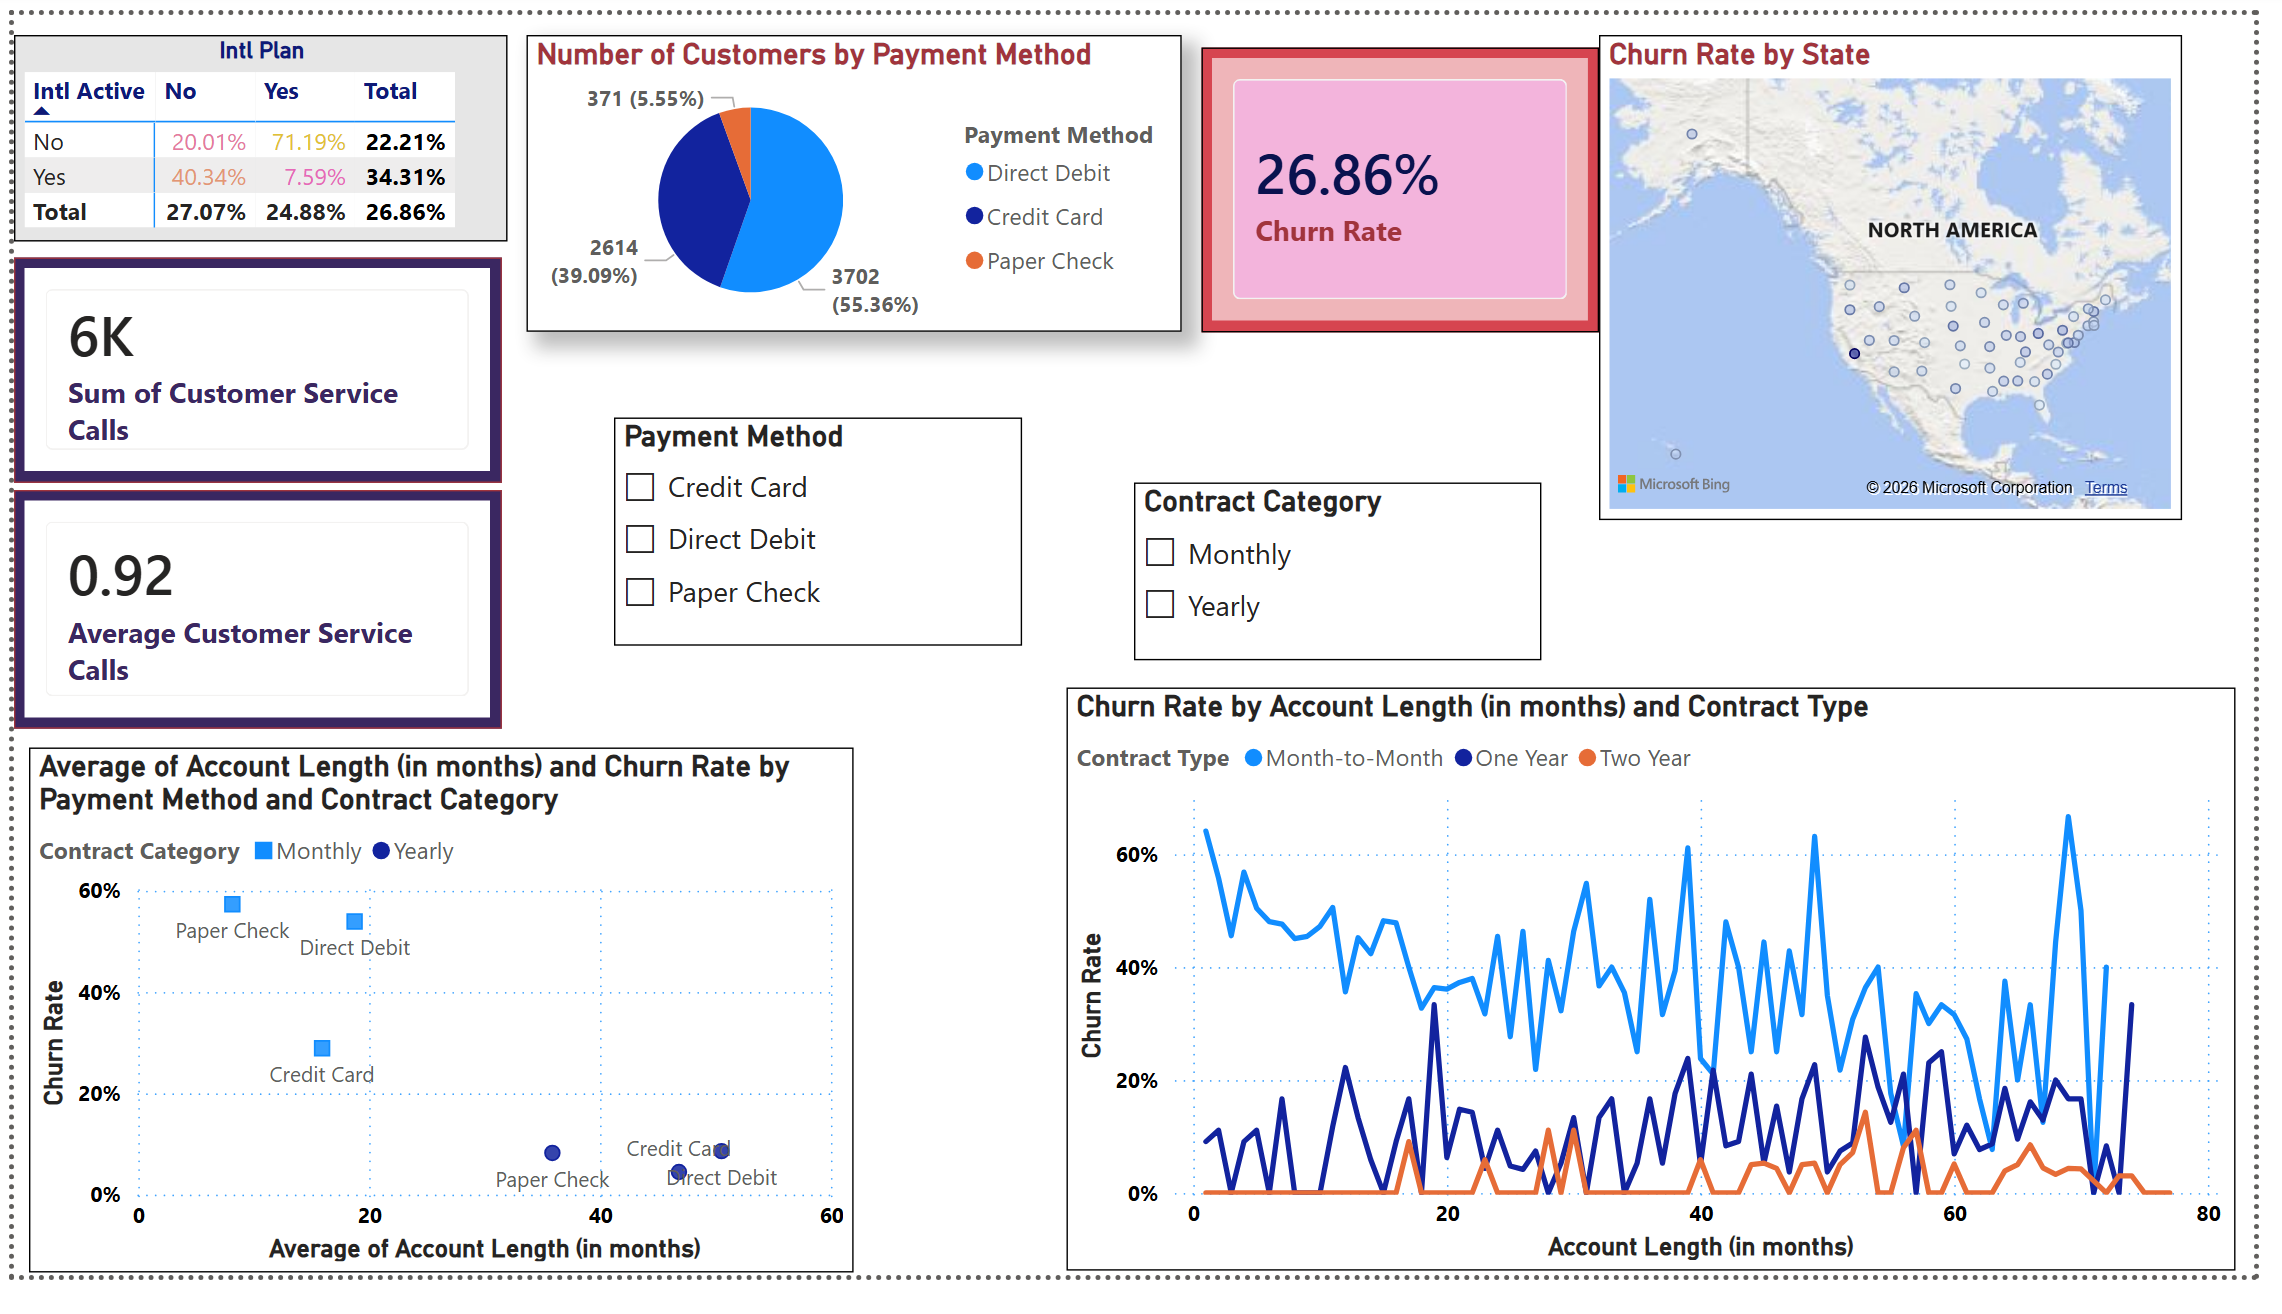

The page's visual inventory and layout, read from the dashboard file:
{"tool":"powerbi","page":{"name":"International Calls","canvas":[1280,720],"ordinal":3},"visuals":[{"type":"pivotTable","title":"Intl Plan","fields":{"Rows":["Churn_fact.Intl Active"],"Columns":["Churn_fact.Intl Plan"],"Values":["_Measure.Churn Rate"]},"box":[0,12.1,281.8,118.2],"z":0},{"type":"map","fields":{"Category":["Churn_fact.State"]},"box":[906.1,12.1,333.3,277.3],"z":1000},{"type":"lineChart","fields":{"Y":["_Measure.Churn Rate"],"Category":["Churn_fact.Account Length (in months)"],"Series":["Churn_fact.Contract Type"]},"box":[592.7,360.8,668.1,340.2],"z":2000},{"type":"pieChart","fields":{"Y":["_Measure.Number of Customers"],"Category":["Churn_fact.Payment Method"]},"box":[292.4,12.1,374.2,169.7],"z":3000},{"type":"cardVisual","fields":{"Data":["Sum(Churn_fact.Customer Service Calls)"]},"box":[0,137.9,278.8,128.8],"z":3001},{"type":"cardVisual","fields":{"Data":["_Measure.Average Customer Service Calls"]},"box":[0,271.2,278.8,136.4],"z":3002},{"type":"listSlicer","fields":{"Values":["Churn_fact.Contract Category"]},"box":[640,238,232,102],"z":3003},{"type":"listSlicer","fields":{"Values":["Churn_fact.Payment Method"]},"box":[342.4,230.3,233.3,130.3],"z":3004},{"type":"scatterChart","fields":{"X":["Churn_fact.Account Length (in months)"],"Y":["_Measure.Churn Rate"],"Series":["Churn_fact.Contract Category"],"Category":["Churn_fact.Payment Method"]},"box":[0,407.5,470.6,312.8],"z":3005},{"type":"cardVisual","fields":{"Data":["_Measure.Churn Rate"]},"box":[678,20,208,148],"z":3006},{"type":"textbox","box":[961.7,295,246.7,65],"z":3007}]}

Visuals, with their boxes in screenshot pixels (x1, y1, x2, y2), scaled from the page's 1280x720 canvas onto the 2282x1314 screenshot:
"Intl Plan" pivotTable: rect(0, 22, 502, 238)
map - Churn_fact.State: rect(1615, 22, 2210, 528)
lineChart - _Measure.Churn Rate x Churn_fact.Account Length (in months): rect(1057, 658, 2248, 1279)
pieChart - _Measure.Number of Customers x Churn_fact.Payment Method: rect(521, 22, 1188, 332)
cardVisual - Sum(Churn_fact.Customer Service Calls): rect(0, 252, 497, 487)
cardVisual - _Measure.Average Customer Service Calls: rect(0, 495, 497, 744)
listSlicer - Churn_fact.Contract Category: rect(1141, 434, 1555, 620)
listSlicer - Churn_fact.Payment Method: rect(610, 420, 1026, 658)
scatterChart - Churn_fact.Account Length (in months) x _Measure.Churn Rate: rect(0, 744, 839, 1313)
cardVisual - _Measure.Churn Rate: rect(1209, 36, 1580, 307)
textbox: rect(1715, 538, 2154, 657)
